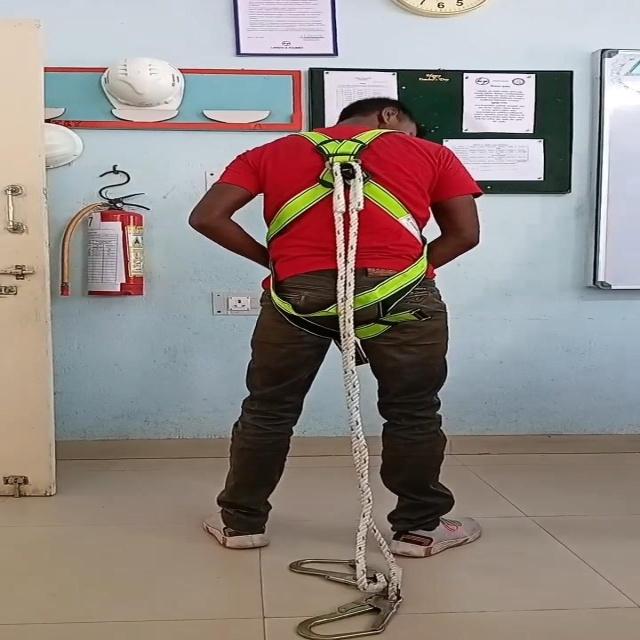Arnes_seguridad: (258, 124, 459, 353)
